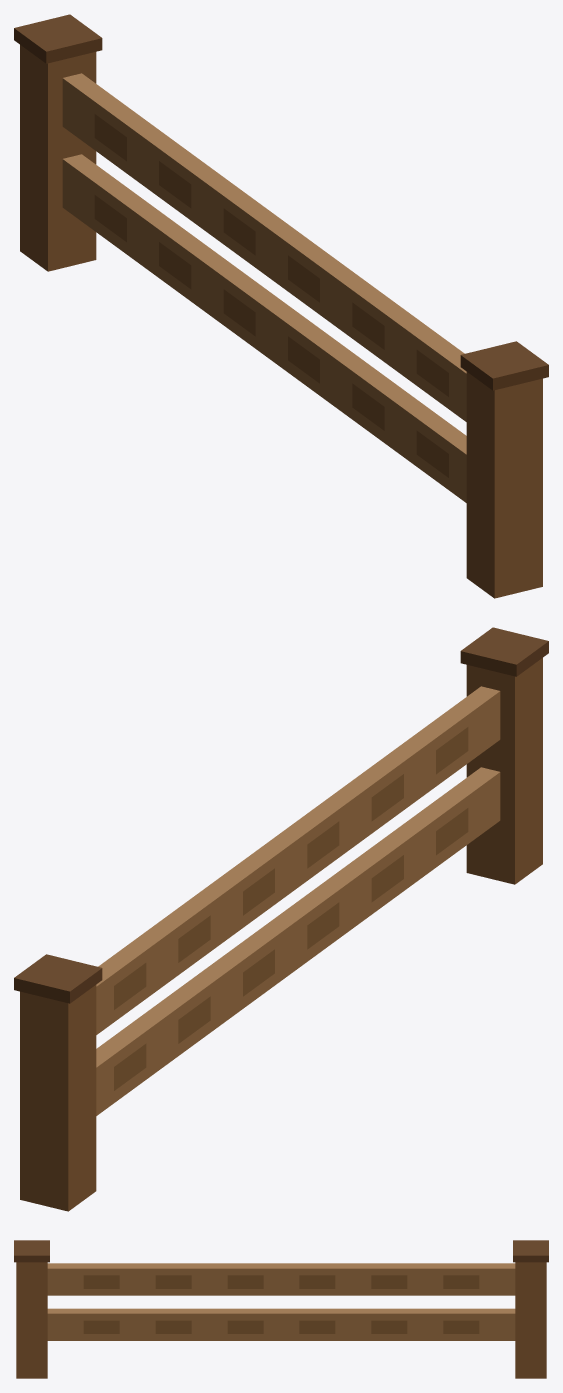
File: fence_wood.glb
3 views of the same model, one above another, from view 1: azimuth 30°, elevation 25°; view 2: azimuth 150°, elevation 25°; view 3: azimuth 270°, elevation 25° (orthographic). The views are drawn at different scales.
Visible parts, largest first — view 1: fence_wood; view 2: fence_wood; view 3: fence_wood.
Part boxes in pixels (x1,y1,x2,y2): fence_wood: (14, 14, 548, 598); fence_wood: (14, 627, 548, 1211); fence_wood: (14, 1240, 548, 1378).
Size of the model in its own units: 0.29 by 1.1 by 4.29.
